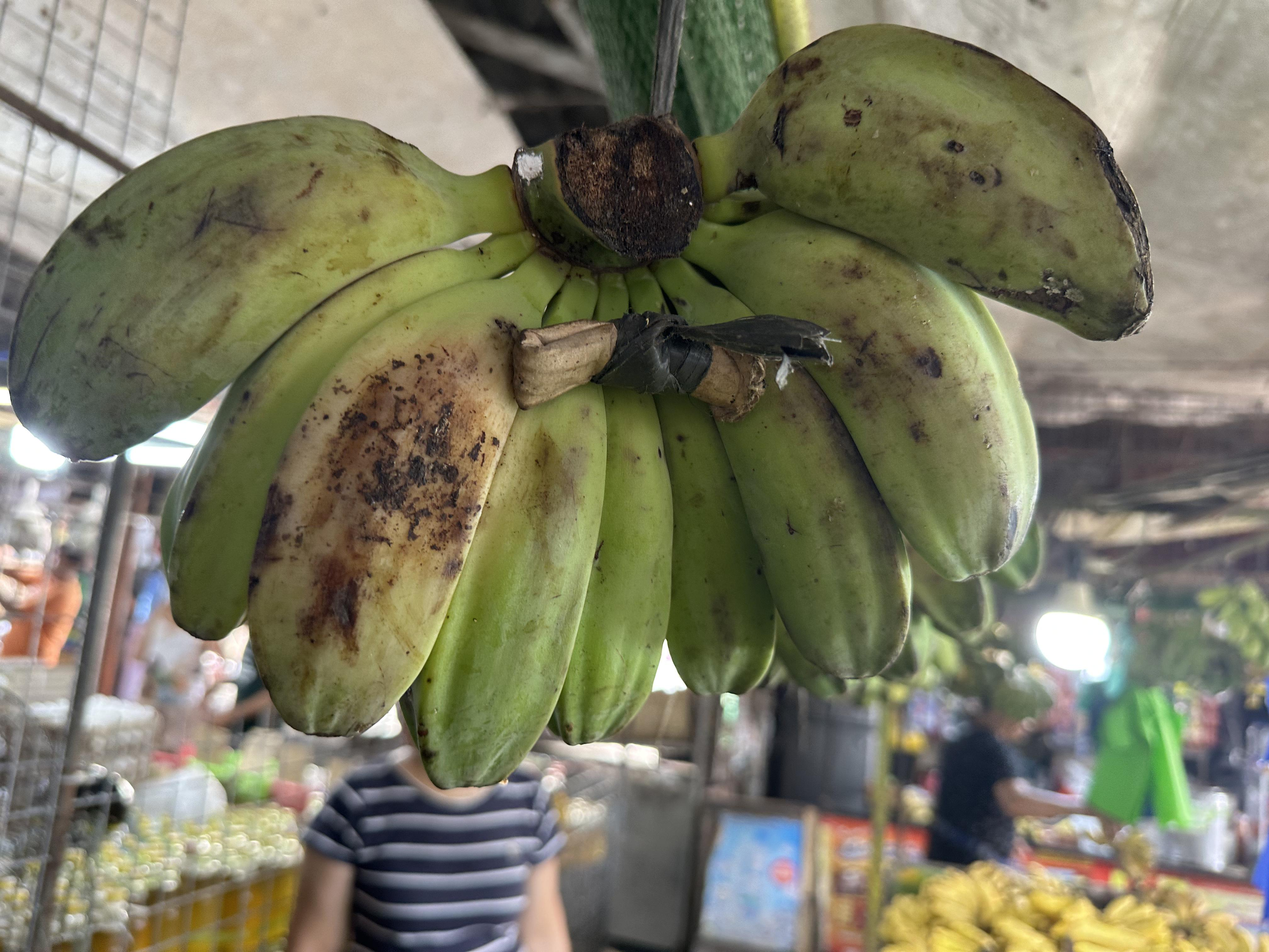underripe: (8, 20, 1155, 790)
